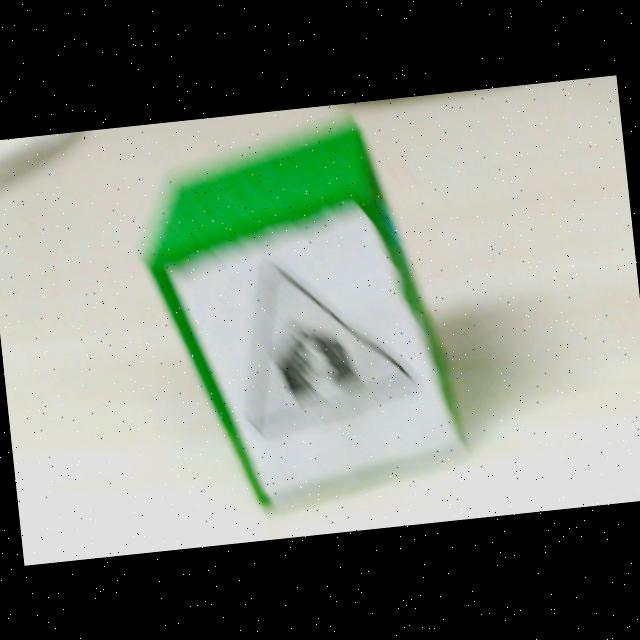Earthquake: (244, 261, 416, 440)
